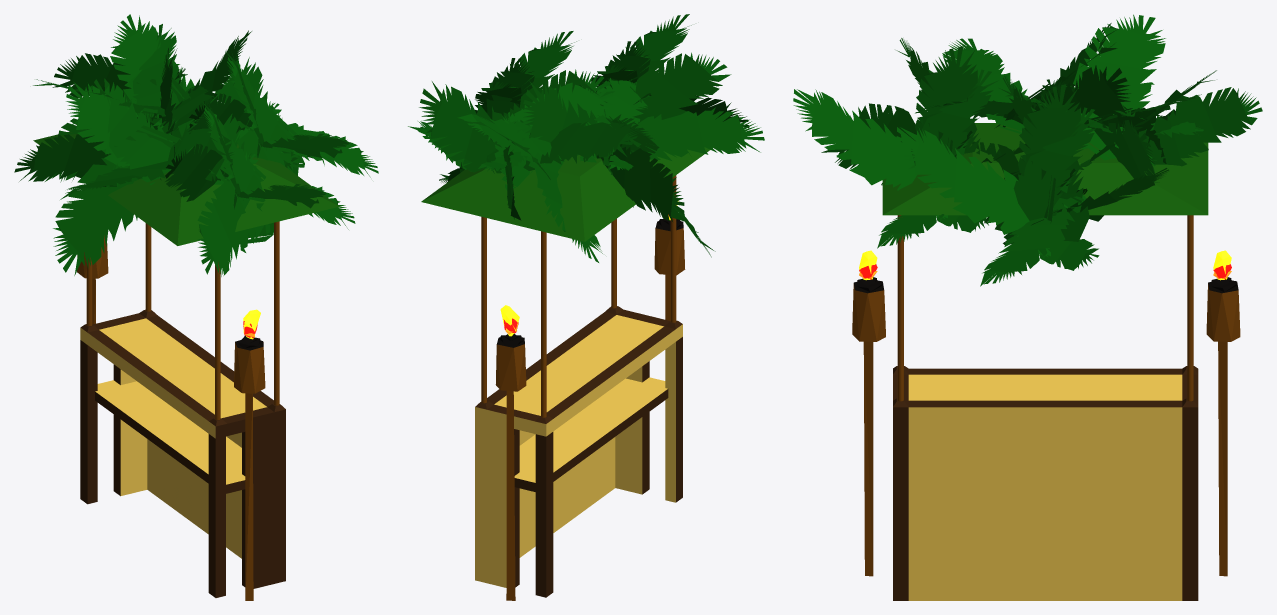
File: Tiki Bar.glb
The picture shows the model from 3 angles, left to right: view 1: azimuth 30°, elevation 25°; view 2: azimuth 150°, elevation 25°; view 3: azimuth 270°, elevation 25°; orthographic projection. The views are drawn at different scales.
Parts seen in each view (by area): view 1: Bar, Branches.002, Branches.003, Branches, Branches.001, Top, Torch, Supports, Torch.001; view 2: Bar, Branches, Branches.002, Top, Branches.003, Branches.001, Supports, Torch.001, Torch; view 3: Bar, Branches.001, Branches.003, Branches, Top, Branches.002, Torch, Torch.001, Supports.
Part boxes in pixels (left/top/right/bottom): Bar: left=80, top=309, right=285, bottom=597; Branches.002: left=14, top=48, right=234, bottom=275; Branches.003: left=165, top=101, right=355, bottom=276; Branches: left=33, top=14, right=251, bottom=182; Branches.001: left=188, top=51, right=378, bottom=177; Top: left=33, top=128, right=339, bottom=245; Torch: left=234, top=335, right=265, bottom=600; Supports: left=86, top=221, right=279, bottom=419; Torch.001: left=77, top=235, right=108, bottom=324; Bar: left=475, top=306, right=682, bottom=597; Branches: left=419, top=81, right=638, bottom=262; Branches.002: left=522, top=78, right=764, bottom=257; Top: left=421, top=126, right=712, bottom=241; Branches.003: left=591, top=14, right=749, bottom=128; Branches.001: left=408, top=31, right=614, bottom=182; Supports: left=481, top=175, right=676, bottom=417; Torch.001: left=495, top=333, right=526, bottom=600; Torch: left=654, top=219, right=685, bottom=320; Bar: left=893, top=366, right=1198, bottom=600; Branches.001: left=896, top=76, right=1168, bottom=286; Branches.003: left=793, top=38, right=1030, bottom=248; Branches: left=1001, top=14, right=1262, bottom=182; Top: left=882, top=123, right=1208, bottom=215; Branches.002: left=915, top=23, right=1130, bottom=133; Torch: left=852, top=277, right=885, bottom=576; Torch.001: left=1206, top=277, right=1240, bottom=576; Supports: left=897, top=215, right=1193, bottom=401.
Size of what is drawn, in the model's own units: 2.12 by 2.91 by 2.35.
